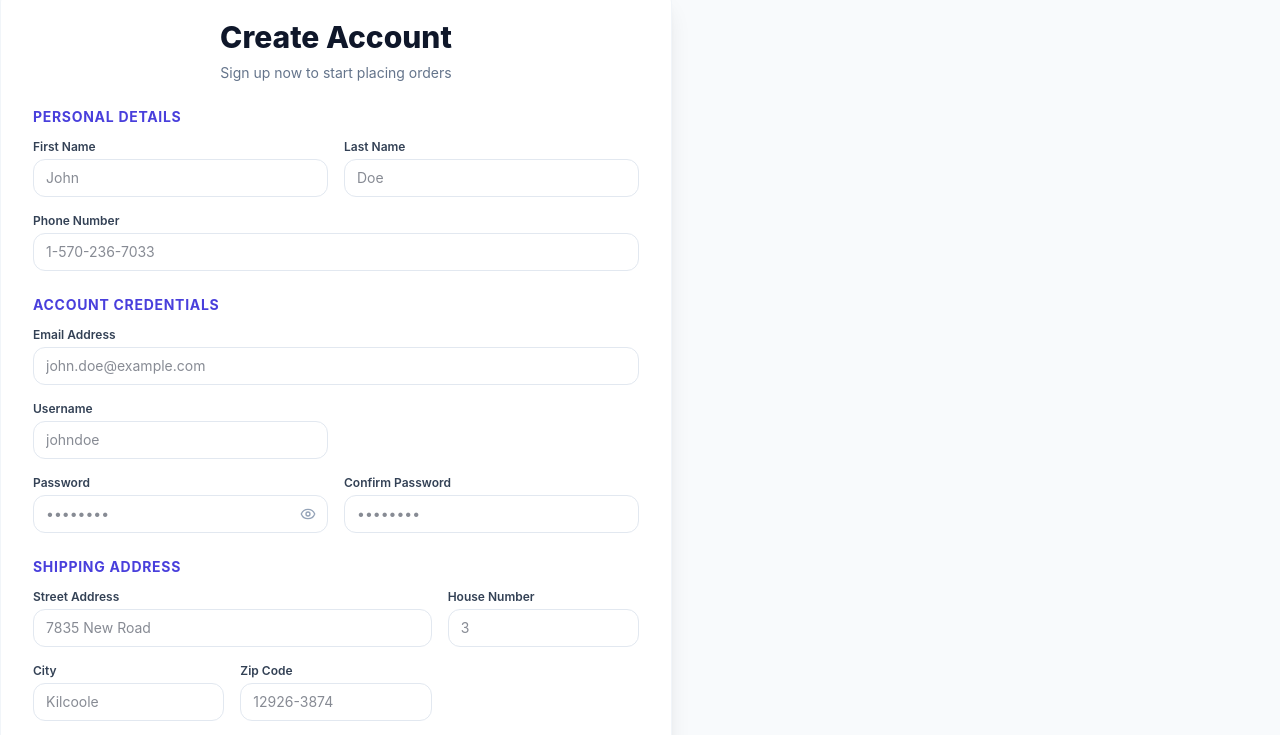
RegisterForm Layout › validates password matching check on registration submit
Note: Fill password differently than confirmation
Step 1. Type "password123" into the password field labelled "Password" → {"x": 180, "y": 514}, box [33,495,328,533]
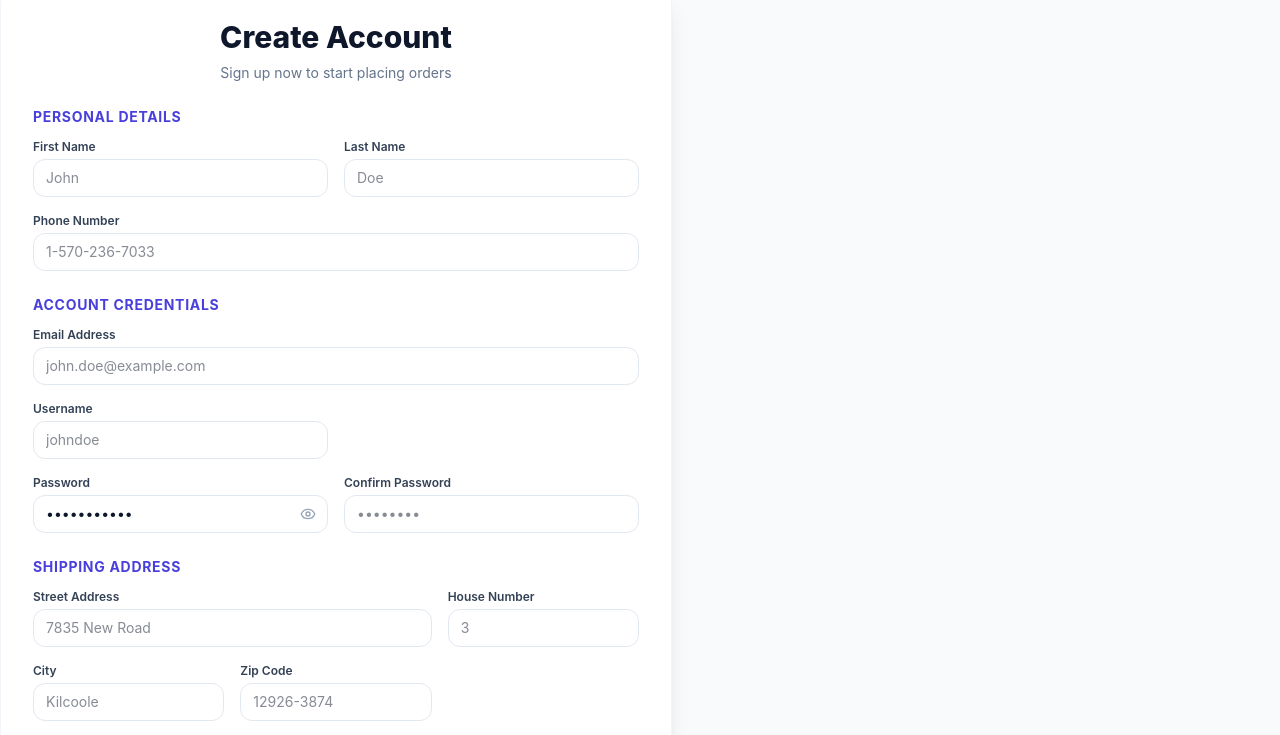
Step 2. Type "password321" into the password field labelled "Confirm Password" → {"x": 492, "y": 514}, box [344,495,639,533]
(page scrolled)
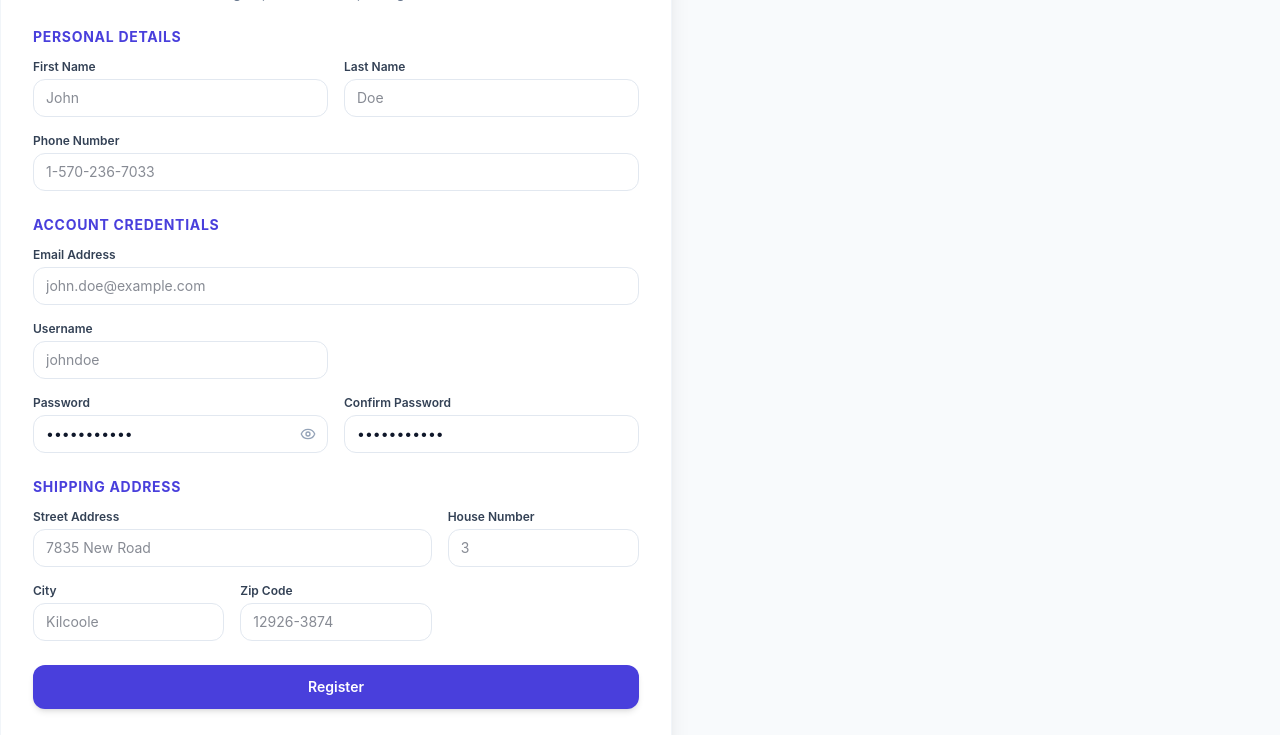
Step 3. Click the button "Register" → {"x": 336, "y": 687}, box [33,665,639,709]
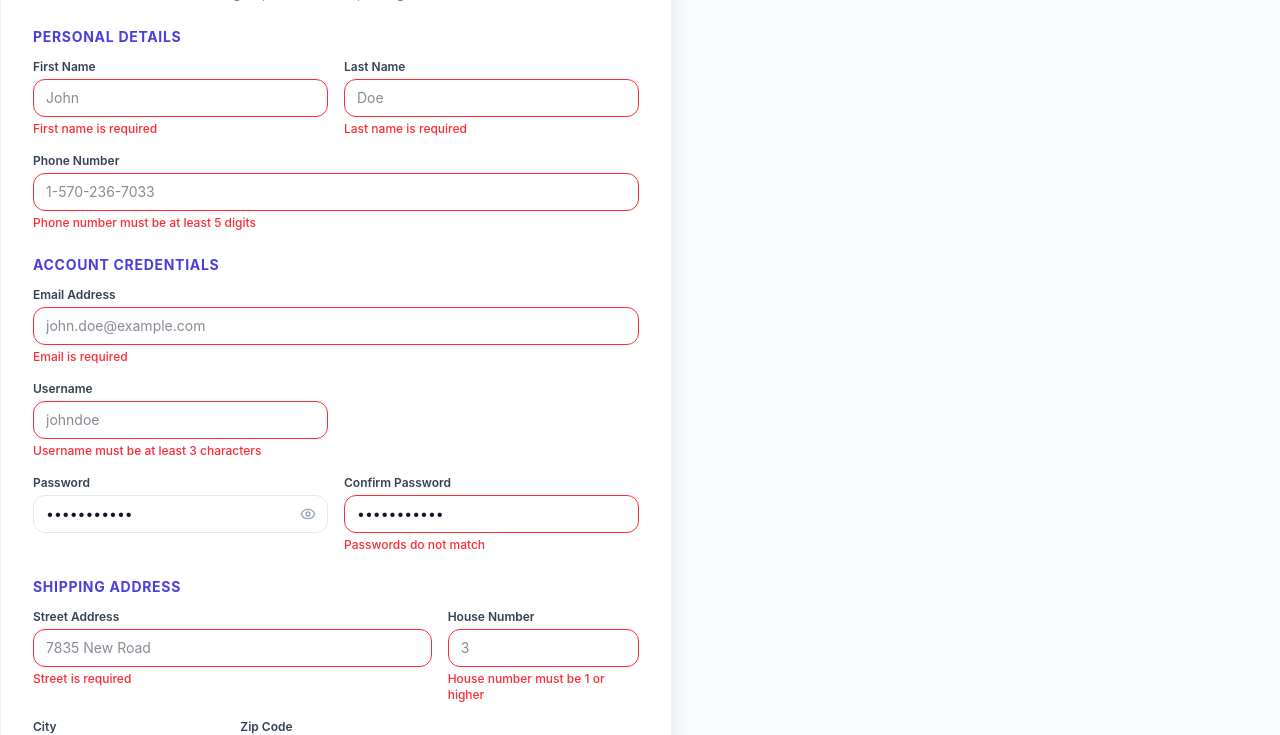
Now the text "Passwords do not match" is shown, box [344,537,485,552]
